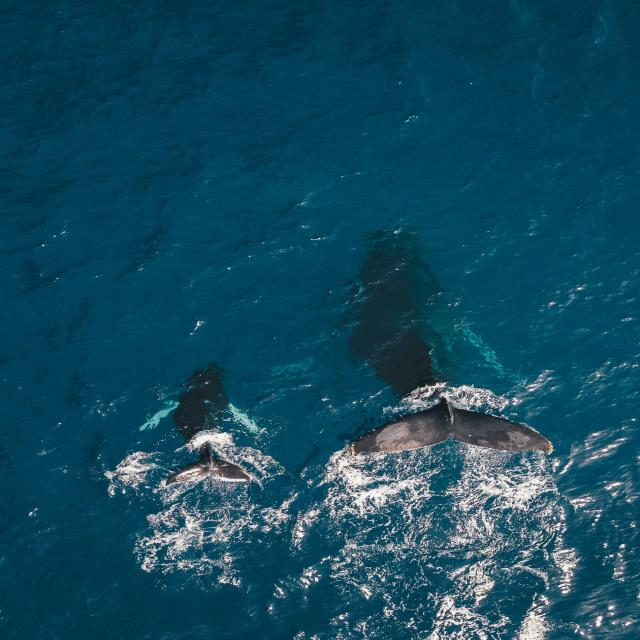jellyfish: (342, 230, 442, 399), (350, 399, 552, 455), (172, 363, 229, 441), (166, 443, 250, 485), (141, 409, 169, 430)
